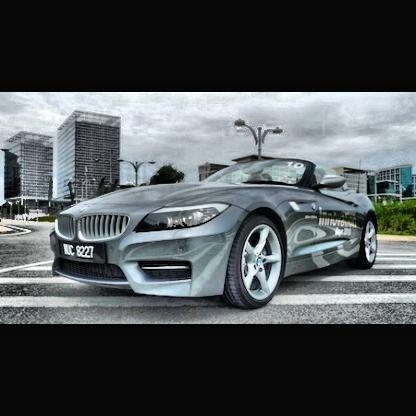BMW Z4 Convertible 2012: (51, 158, 379, 312)
